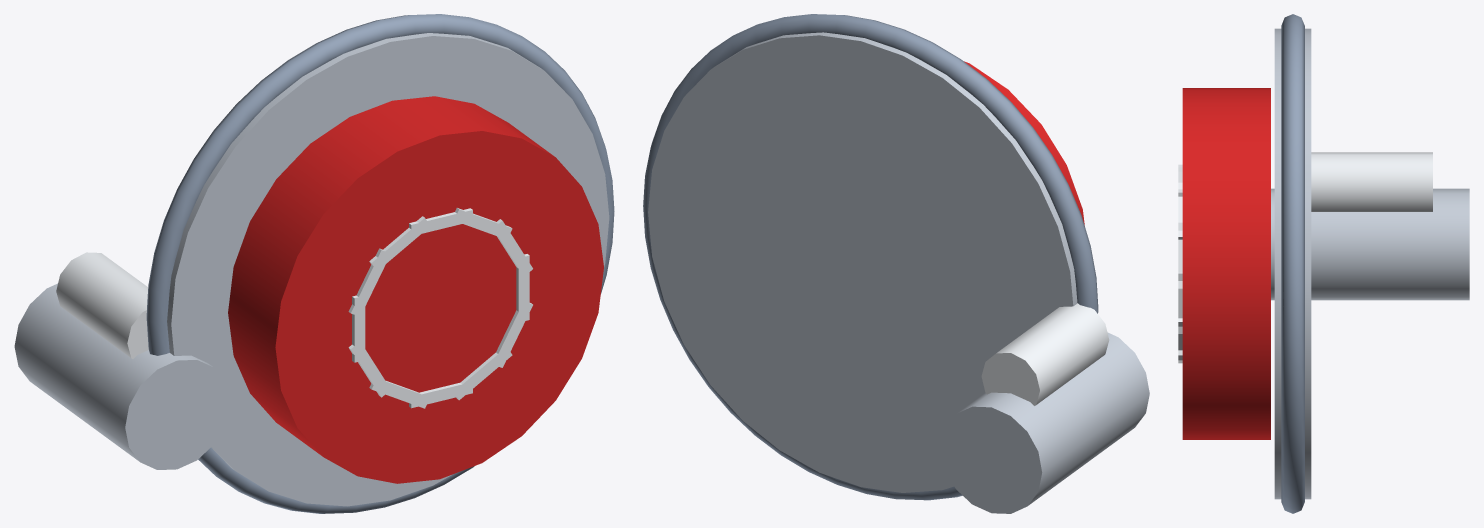
The model's file is racing_clutch_flywheel.glb.
3 views of the same model, side by side, from view 1: azimuth 30°, elevation 25°; view 2: azimuth 150°, elevation 25°; view 3: azimuth 270°, elevation 25° (orthographic). The views are drawn at different scales.
Parts seen in each view (by area): view 1: Racing_Clutch_Flywheel_Assembly; view 2: Racing_Clutch_Flywheel_Assembly; view 3: Racing_Clutch_Flywheel_Assembly.
Boxes of the visible parts, <box> form: Racing_Clutch_Flywheel_Assembly: <box>14,14,614,513</box>; Racing_Clutch_Flywheel_Assembly: <box>643,14,1149,513</box>; Racing_Clutch_Flywheel_Assembly: <box>1178,14,1469,513</box>.
Size of the model in its own units: 0.368 by 0.34 by 0.198.
